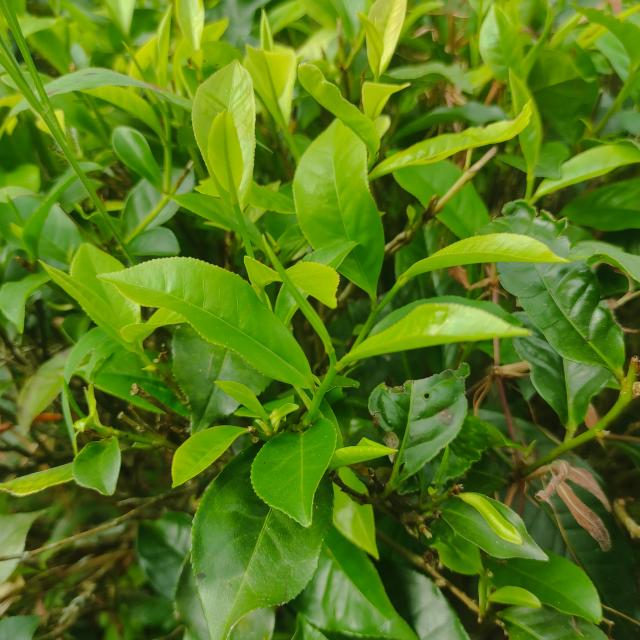unopened_leaf: (257, 226, 340, 365), (116, 35, 177, 126)
